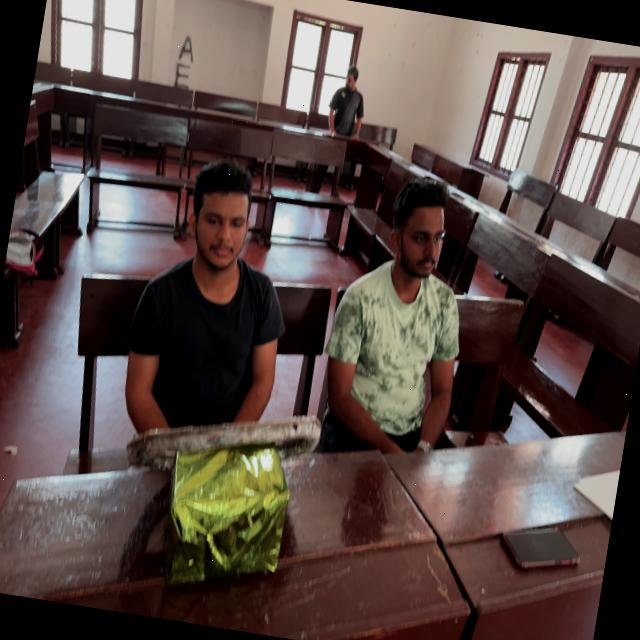no-seatbelt: (109, 253, 297, 478), (310, 261, 473, 472)
